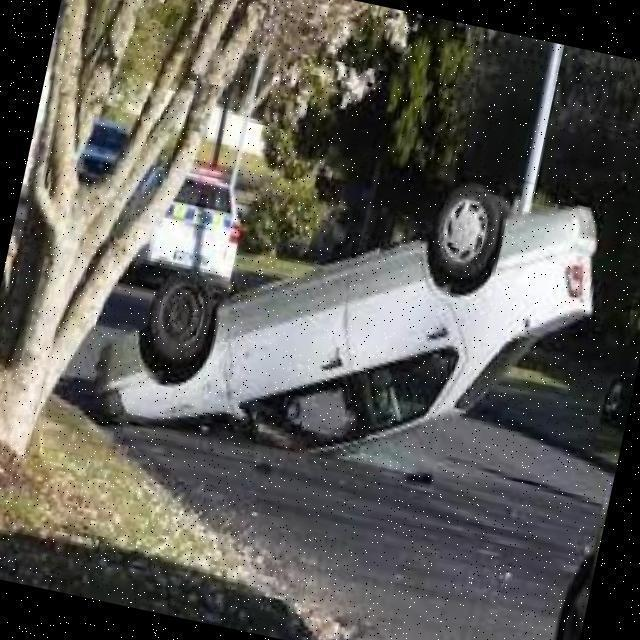accident: (82, 109, 619, 523)
